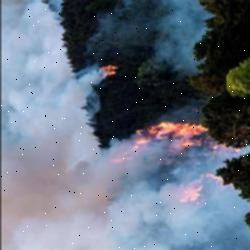fire: (111, 118, 230, 220), (96, 64, 120, 86)
